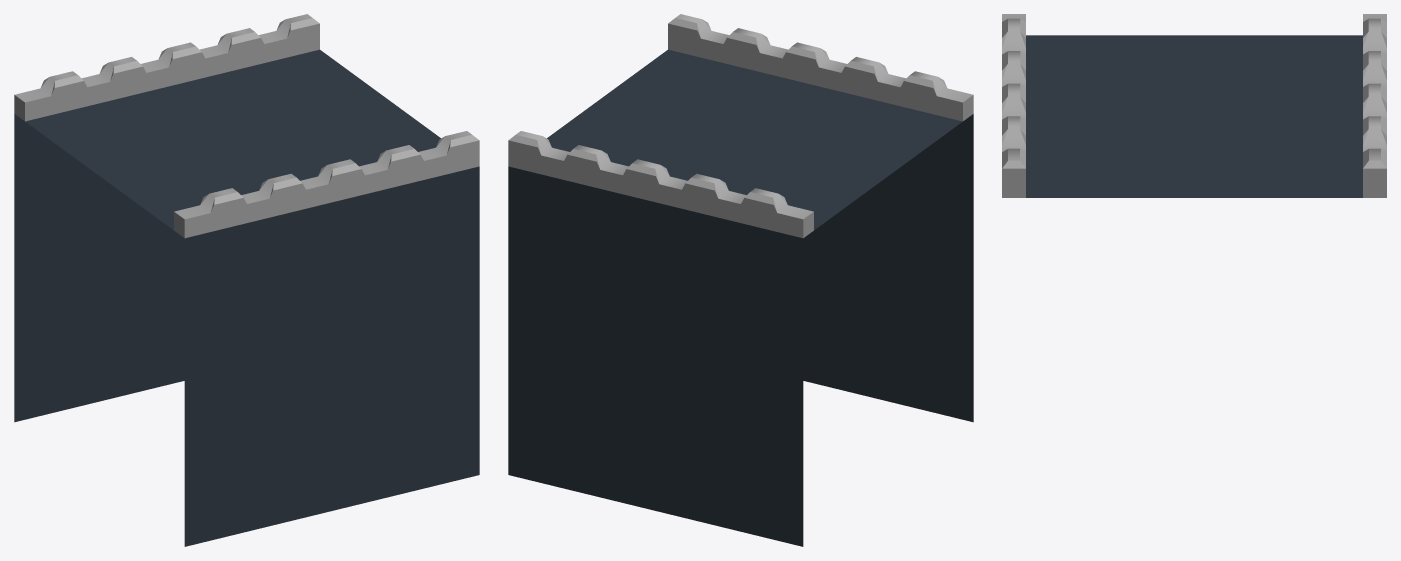
The model's file is 1ITR_Bridge_Border1.fbx.
3 views of the same model, side by side, from view 1: azimuth 30°, elevation 25°; view 2: azimuth 150°, elevation 25°; view 3: azimuth 270°, elevation 25° (orthographic). The views are drawn at different scales.
Parts seen in each view (by area): view 1: Bridge_Border1, Border, Border1; view 2: Bridge_Border1, Border1, Border; view 3: Bridge_Border1, Border1, Border.
Boxes of the visible parts, x1=… form: Bridge_Border1: x1=14, y1=49, x2=479, y2=546; Border: x1=174, y1=131, x2=479, y2=238; Border1: x1=14, y1=14, x2=319, y2=121; Bridge_Border1: x1=508, y1=49, x2=973, y2=546; Border1: x1=508, y1=131, x2=813, y2=238; Border: x1=668, y1=14, x2=973, y2=121; Bridge_Border1: x1=1026, y1=35, x2=1362, y2=197; Border1: x1=1363, y1=14, x2=1386, y2=197; Border: x1=1002, y1=14, x2=1025, y2=197.
Size of the model in its own units: 4 by 4 by 4.4.
